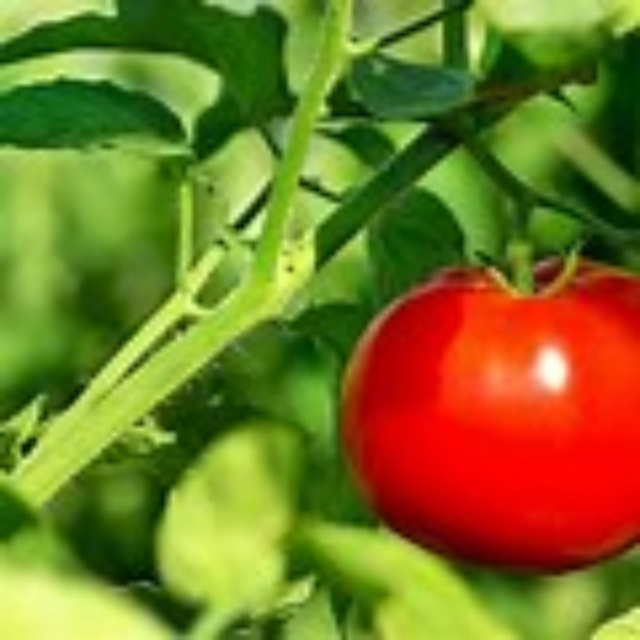tomato: (340, 252, 639, 580)
